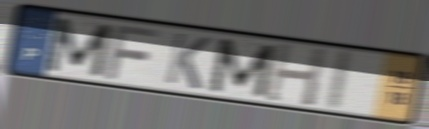F: (102, 22, 164, 82)
H: (263, 40, 329, 109)
I: (322, 47, 356, 113)
K: (162, 30, 214, 92)
M: (42, 14, 116, 79), (206, 35, 279, 100)
